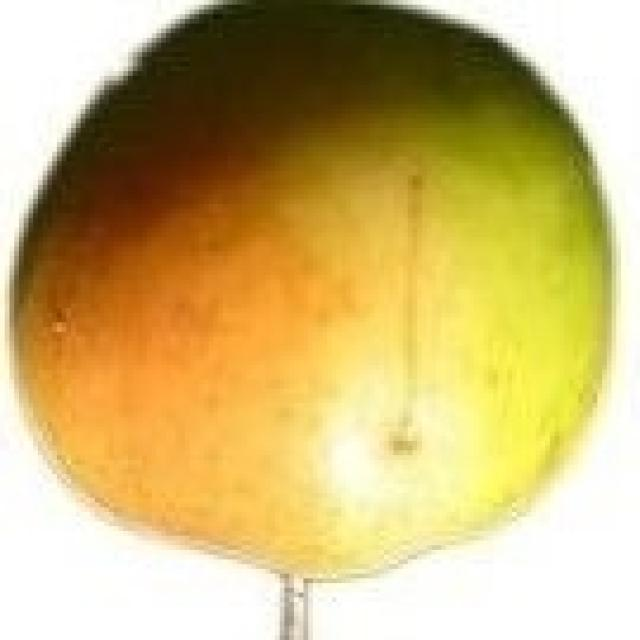75-_ripeness: (15, 0, 614, 577)
